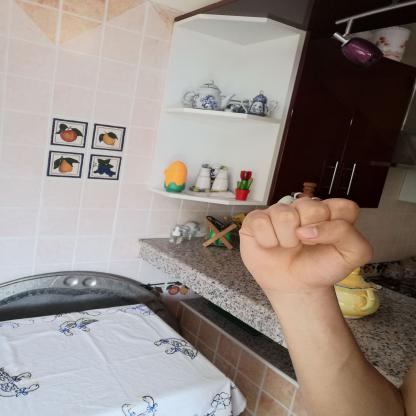SAD: (226, 187, 384, 307)
